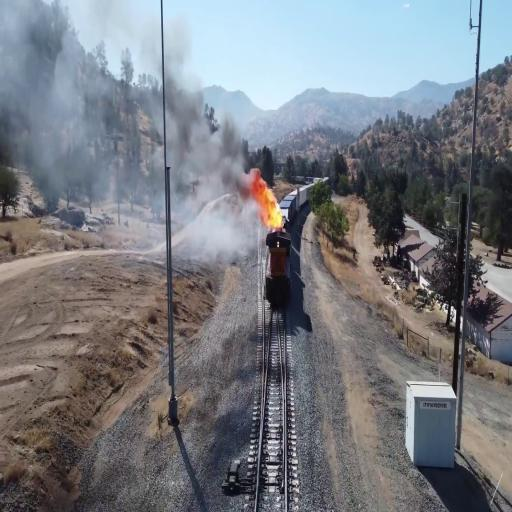fire: (251, 176, 284, 232)
smoke: (204, 134, 249, 205), (166, 90, 196, 144)
